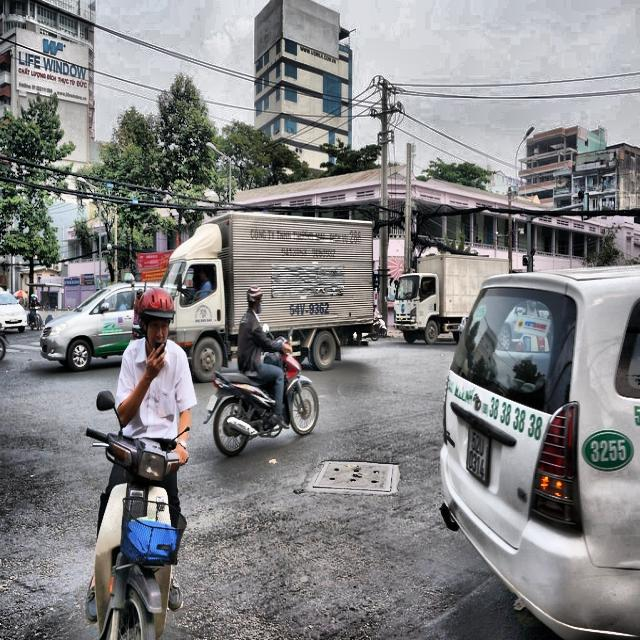lisence_plate: (465, 424, 490, 484)
